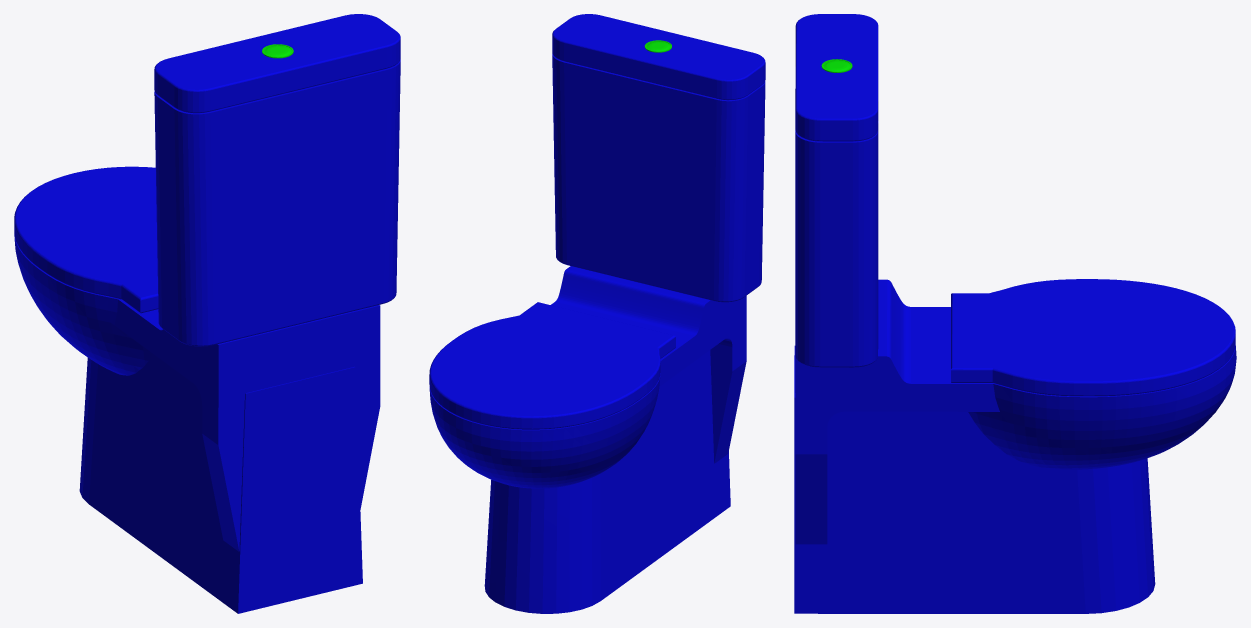
Rendered from OM_1BHK_Bathroom_Lavatory.fbx.
3 renders of one model, left to right at view 1: azimuth 30°, elevation 25°; view 2: azimuth 150°, elevation 25°; view 3: azimuth 270°, elevation 25°, orthographic. The views are drawn at different scales.
Visible parts, largest first — view 1: OM_1BHK_Bathroom_Lavatory; view 2: OM_1BHK_Bathroom_Lavatory; view 3: OM_1BHK_Bathroom_Lavatory.
Part boxes in pixels (bbox=[...]): OM_1BHK_Bathroom_Lavatory: bbox=[14, 14, 400, 613]; OM_1BHK_Bathroom_Lavatory: bbox=[429, 14, 765, 613]; OM_1BHK_Bathroom_Lavatory: bbox=[794, 14, 1236, 613].
Size of the model in its own units: 1.32 by 3.01 by 2.33.
